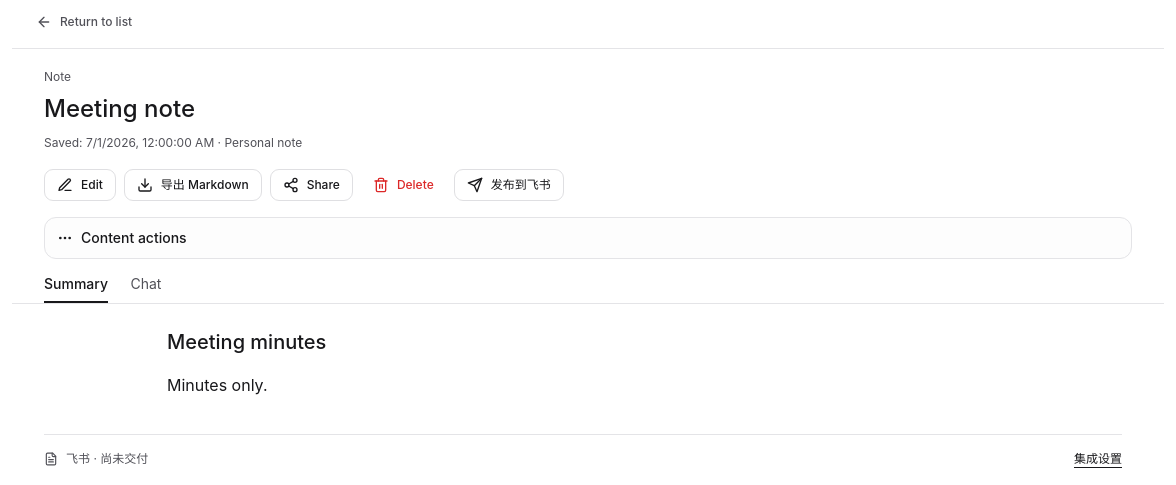
Test: NoteEditor transcript evidence › uses note title wording for document content without a transcript tab
Expected: the text "Minutes only." is shown, [167,375,268,395]
Click the button "Edit" at (80, 185), box [44,169,116,201]
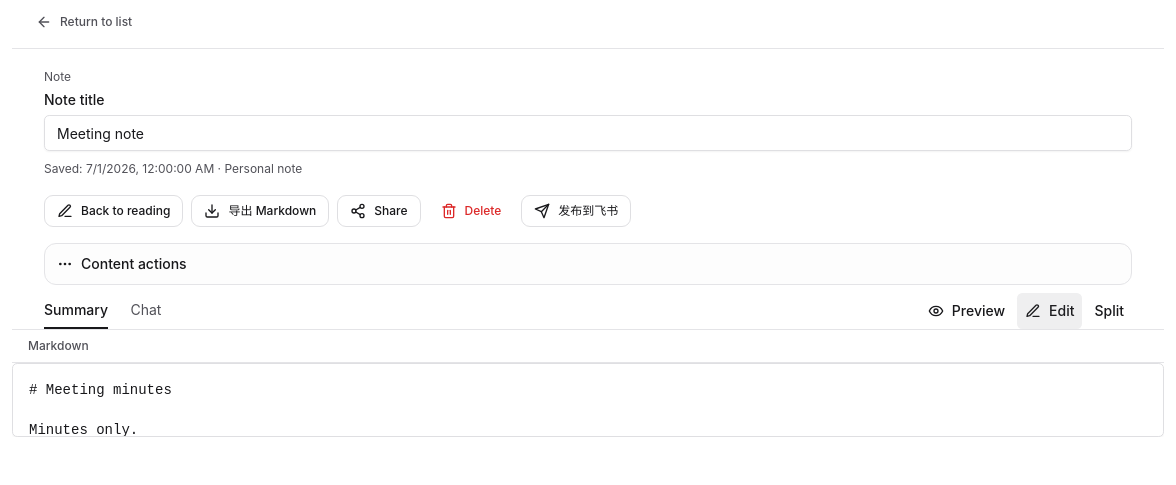
Expected: the field labelled "Note title" holds "Meeting note", [44,115,1132,151]
